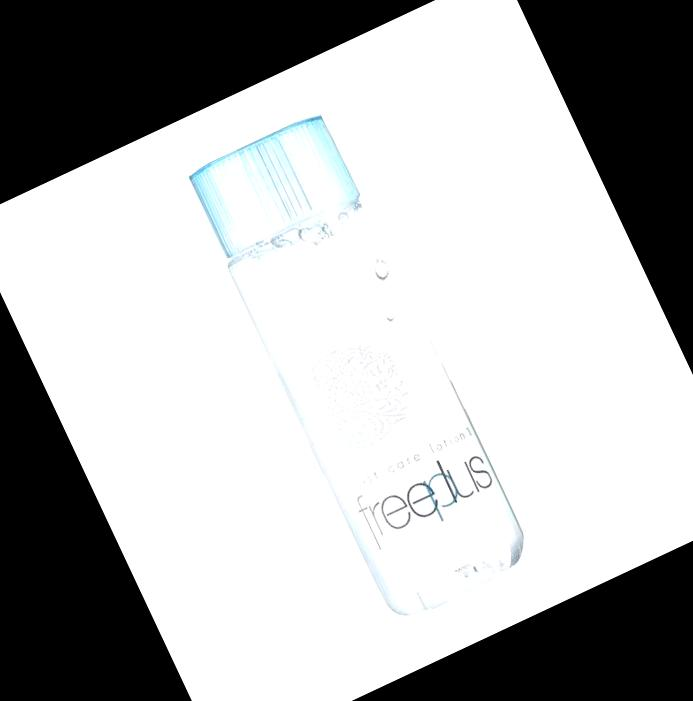cosmetic: (189, 112, 538, 626)
